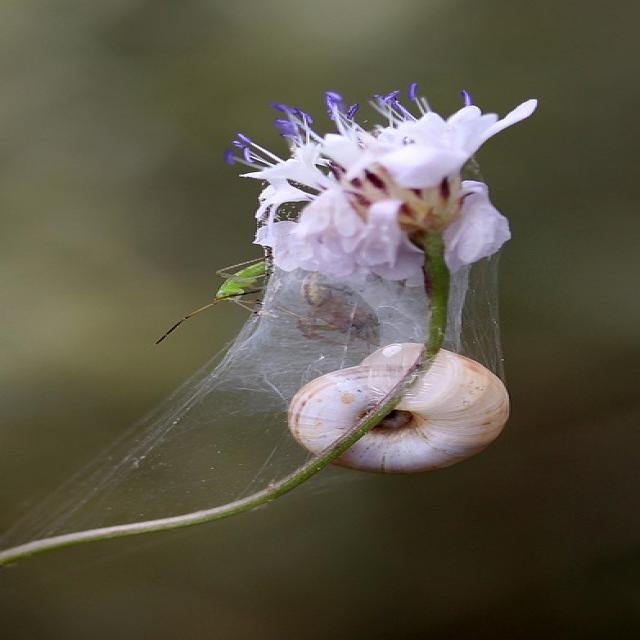spyder: (201, 255, 268, 311)
